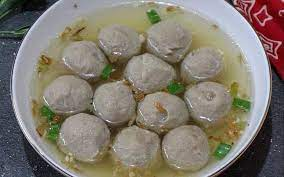bakso: (24, 17, 239, 176)
